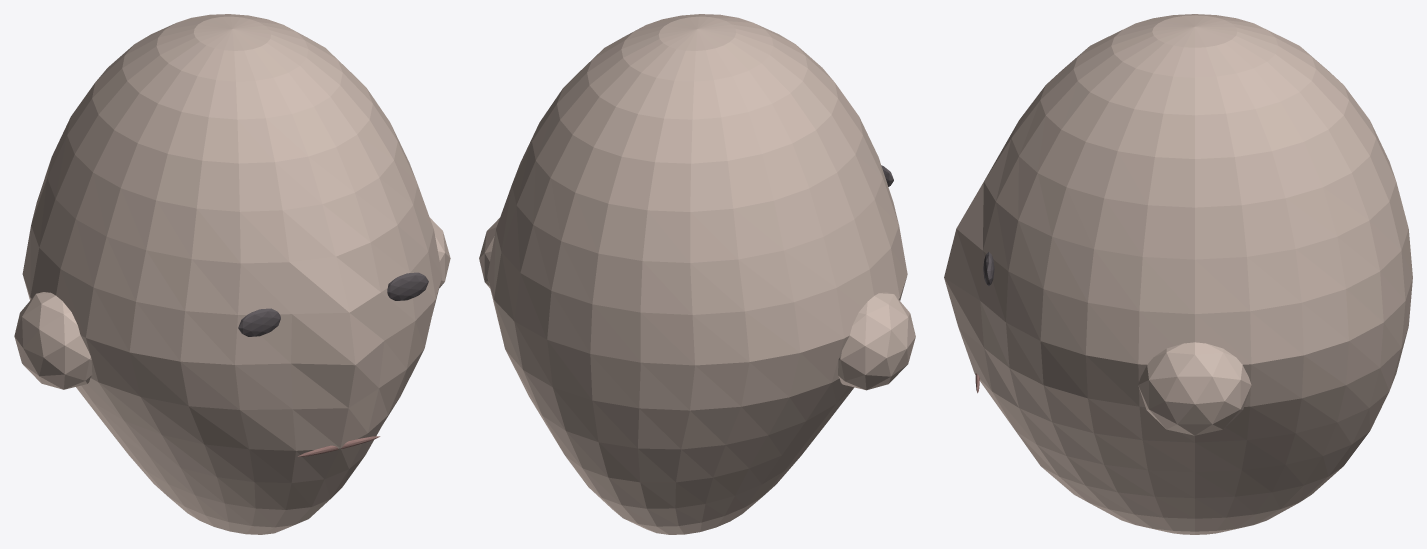
Rendered from feminine.glb.
3 renders of one model, left to right at view 1: azimuth 30°, elevation 25°; view 2: azimuth 150°, elevation 25°; view 3: azimuth 270°, elevation 25°, orthographic.
Visible parts, largest first — view 1: face.head, face.ear.left, face.eye.left, face.eye.right, face.ear.right; view 2: face.head, face.ear.left, face.ear.right; view 3: face.head, face.ear.right.
Part boxes in pixels (<box>): face.head: <box>22,14,442,534</box>; face.ear.left: <box>14,292,92,389</box>; face.eye.left: <box>238,308,280,336</box>; face.eye.right: <box>387,272,428,300</box>; face.ear.right: <box>429,217,450,287</box>; face.head: <box>487,14,907,534</box>; face.ear.left: <box>838,292,915,390</box>; face.ear.right: <box>479,218,499,287</box>; face.head: <box>944,14,1412,534</box>; face.ear.right: <box>1138,342,1251,435</box>.
Bounding box in the file's own units: 0.21 × 0.236 × 0.1999.
